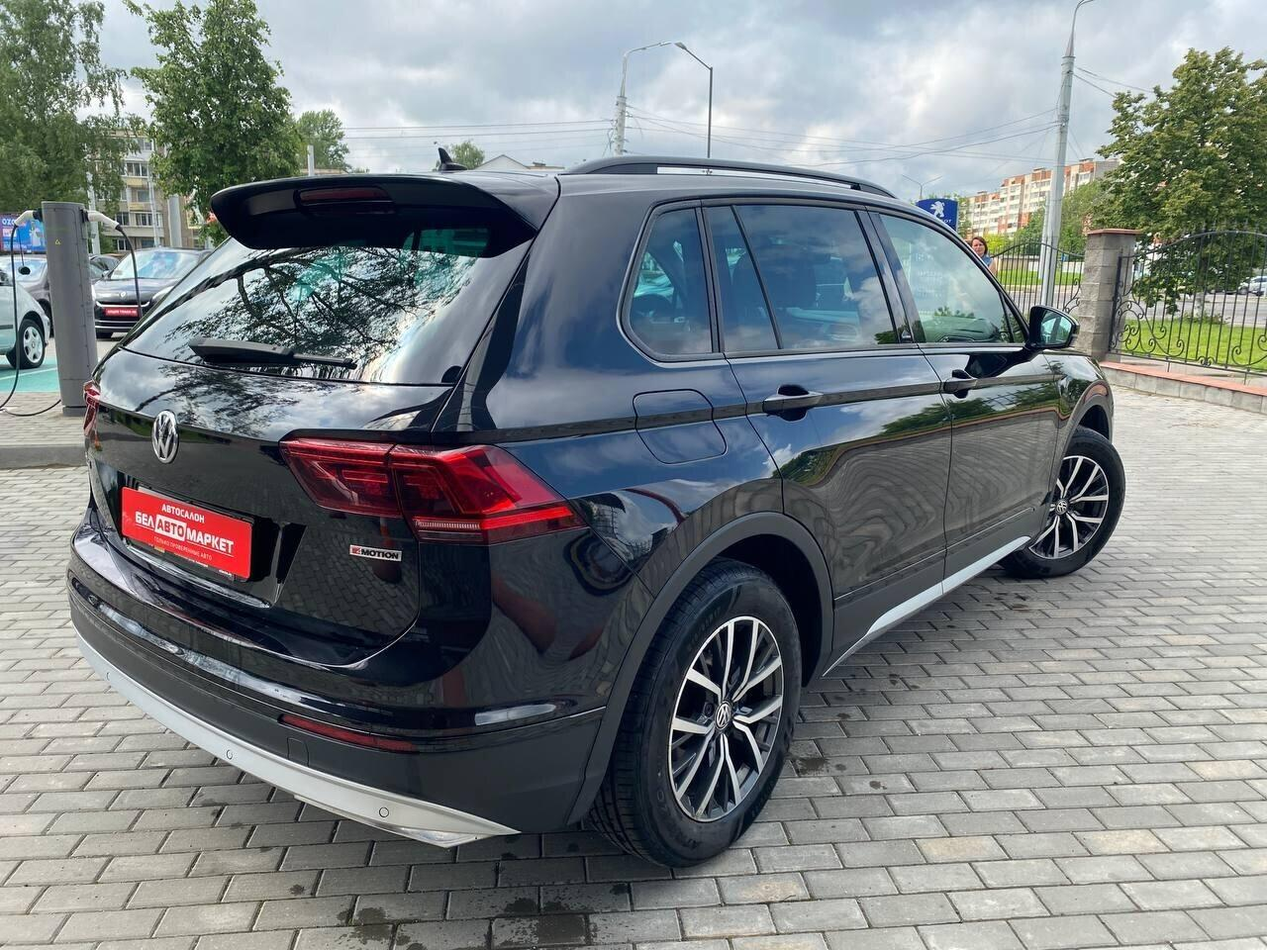Tiguan_2016-2021: (59, 171, 1132, 860)
